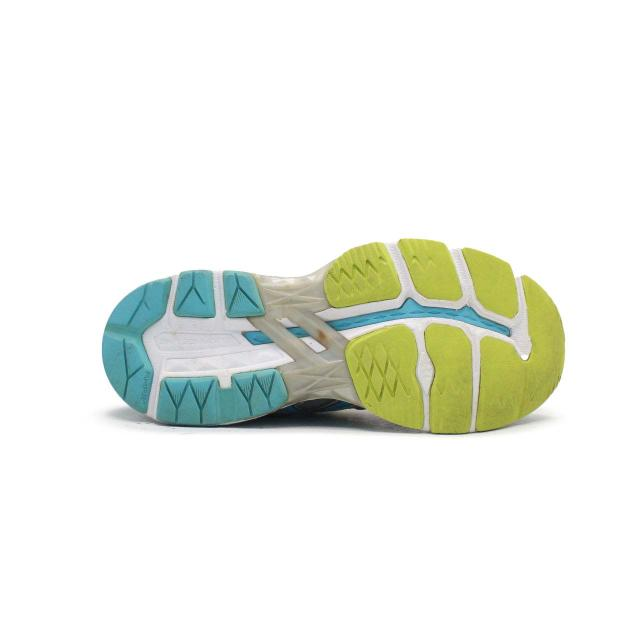outersole: (101, 239, 564, 435)
